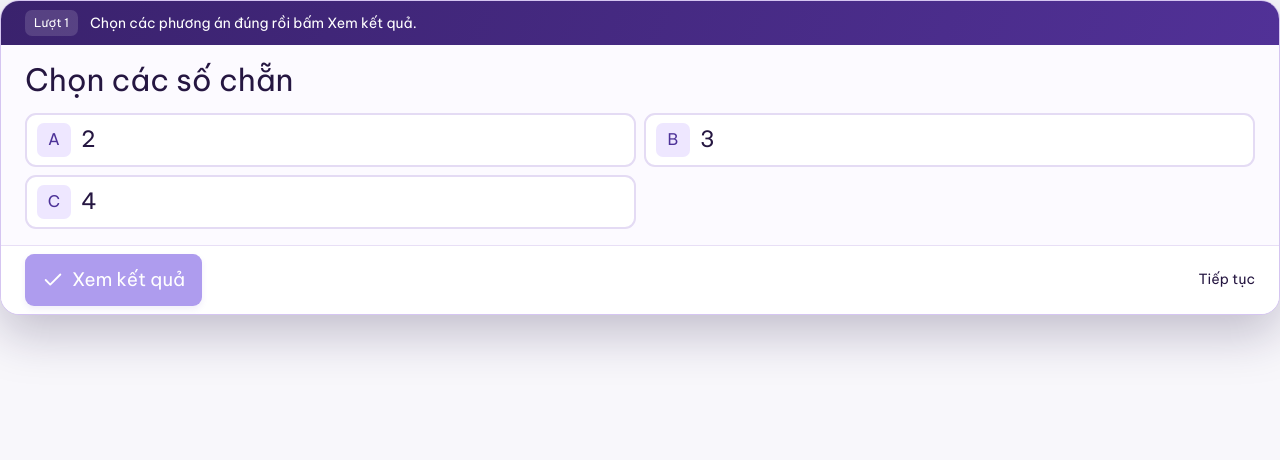
Test: auto-grades the selected options [0,1,2] only after confirmation
This screenshot has width=1280, height=460.
Expected: the button "Xem kết quả" is disabled, [25,254,202,306]
Click the button "A 2".
click(54, 140)  # box [25,112,636,166]
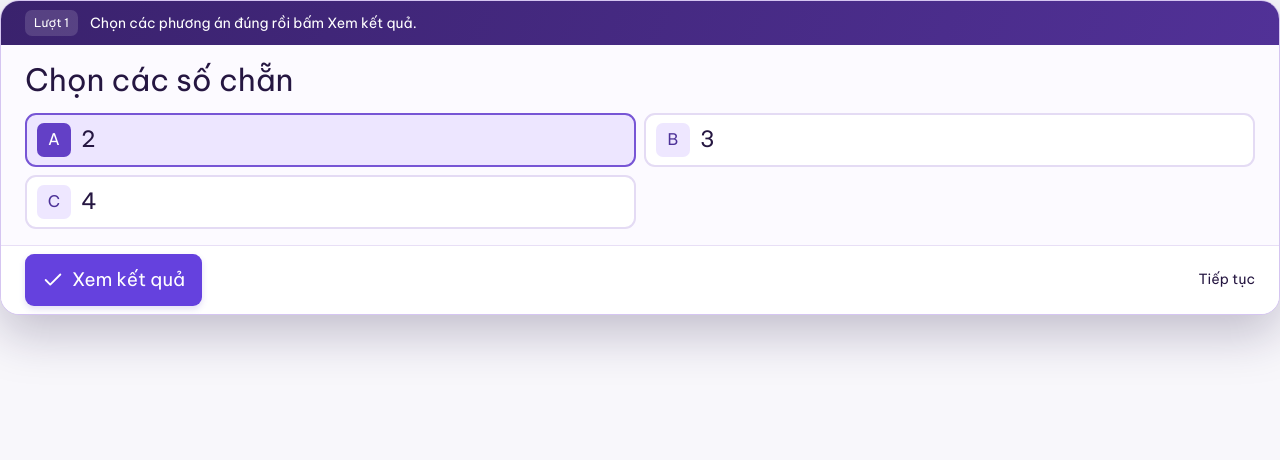
Click the button "B 3".
click(673, 140)  # box [644,112,1255,166]
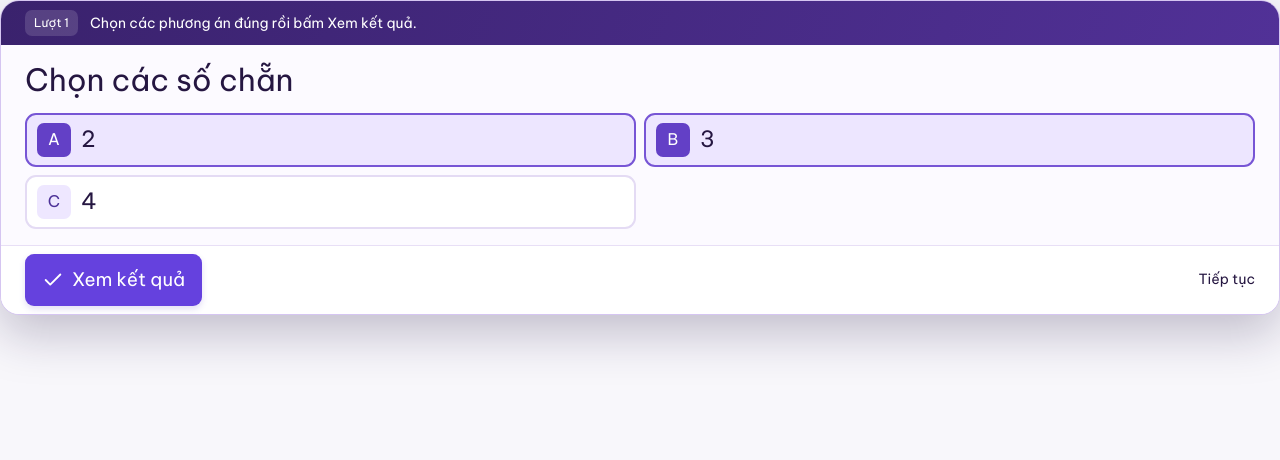
Click the button "C 4".
click(54, 202)  # box [25,174,636,228]
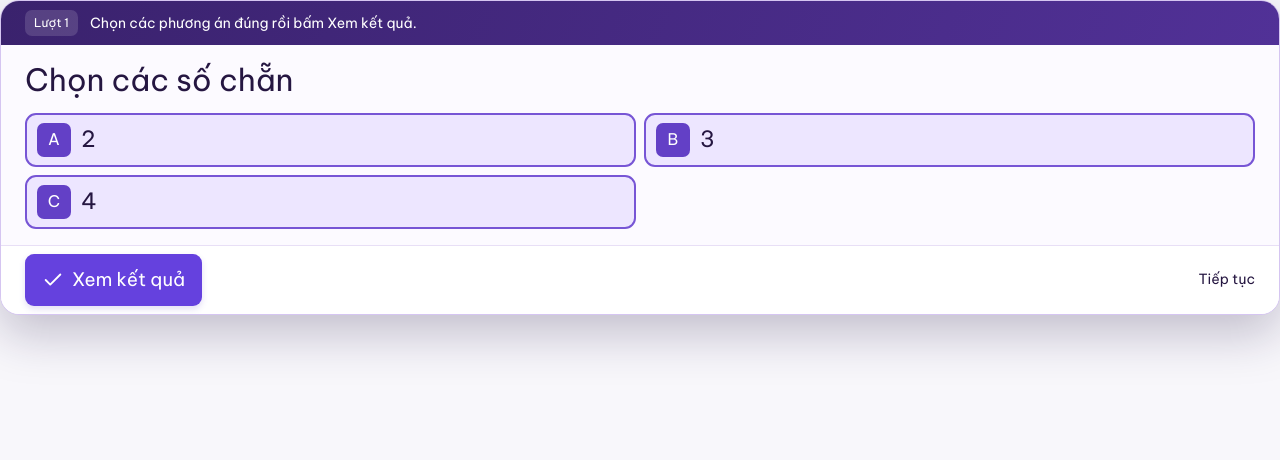
Expected: the button "Xem kết quả" is enabled
Click the button "Xem kết quả".
click(114, 280)  # box [25,254,202,306]
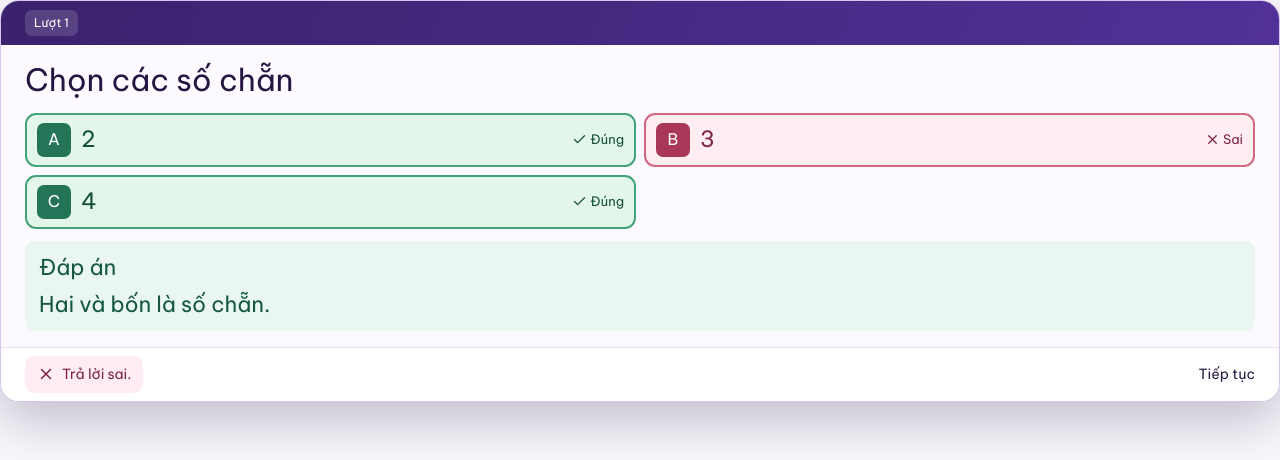
Expected: the message reads "Trả lời sai.", [62,365,131,383]
Expected: the text "Đúng" is shown 2 times, [572,131,624,148]; [572,193,624,210]
Expected: the text "Sai" is shown once, [1205,131,1243,148]
